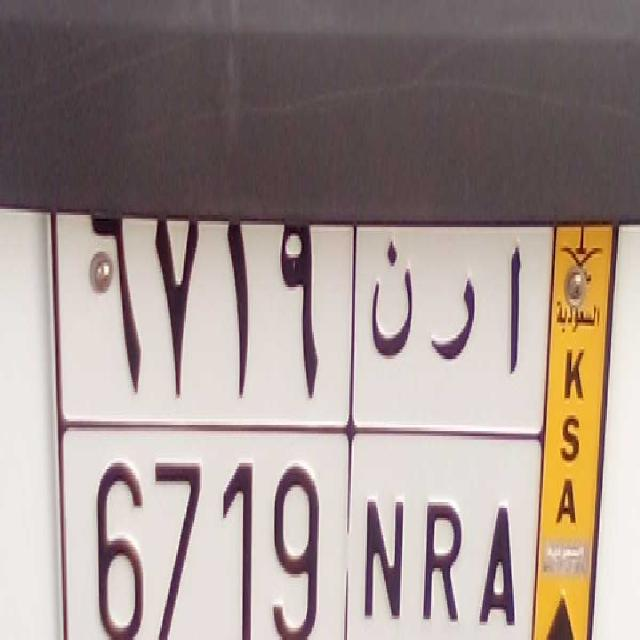license_plate: (59, 421, 542, 640)
